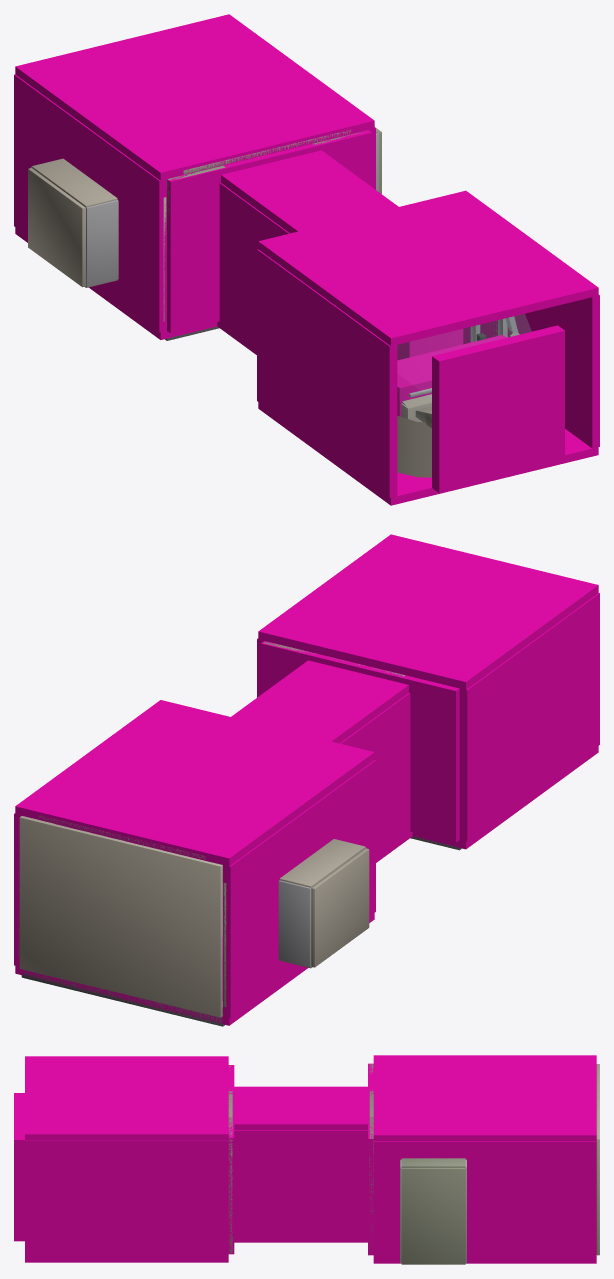
The model's file is ship-interior.glb.
The picture shows the model from 3 angles, top to bottom: view 1: azimuth 30°, elevation 25°; view 2: azimuth 150°, elevation 25°; view 3: azimuth 270°, elevation 25°; orthographic projection. The views are drawn at different scales.
Visible parts, largest first — view 1: COL_Ceil_Bay, COL_Ceil_Ck, COL_Wall_Ck_L, COL_Nose, COL_Wall_Bay_L, COL_Ceil_Cr, COL_Bulk_Bay_L, COL_Wall_Ck_R, COL_Wall_Cr_L, SM_Bunk_Niche_Back, SM_Canopy_Glass, COL_Floor_Ck (+9 smaller); view 2: COL_Ceil_Bay, SM_Bay_WallRear, COL_Ceil_Ck, COL_Wall_Ck_L, COL_Wall_Bay_L, COL_Ceil_Cr, COL_Bulk_Ck_L, COL_Wall_Cr_L, SM_Bunk_Niche_Back, SM_Bunk_Niche_JambA, COL_Floor_Bay, SM_Bunk_Niche_Top (+5 smaller); view 3: COL_Wall_Ck_R, COL_Wall_Bay_R, COL_Ceil_Bay, COL_Ceil_Ck, COL_Wall_Cr_R, SM_Locker_Niche_Back, COL_Ceil_Cr, COL_Nose, COL_Floor_Ck, COL_Floor_Bay, COL_Bulk_Ck_R, COL_Floor_Cr (+4 smaller).
Boxes of the visible parts, x1=… form: COL_Ceil_Bay: x1=15, y1=14, x2=374, y2=180; COL_Ceil_Ck: x1=258, y1=190, x2=598, y2=346; COL_Wall_Ck_L: x1=257, y1=249, x2=397, y2=497; COL_Nose: x1=432, y1=325, x2=564, y2=492; COL_Wall_Bay_L: x1=14, y1=74, x2=166, y2=332; COL_Ceil_Cr: x1=221, y1=150, x2=398, y2=233; COL_Bulk_Bay_L: x1=167, y1=165, x2=227, y2=333; COL_Wall_Ck_R: x1=463, y1=294, x2=599, y2=448; COL_Wall_Cr_L: x1=219, y1=183, x2=289, y2=348; SM_Bunk_Niche_Back: x1=28, y1=168, x2=85, y2=287; SM_Canopy_Glass: x1=398, y1=314, x2=531, y2=421; COL_Floor_Ck: x1=258, y1=402, x2=598, y2=505; COL_Ceil_Bay: x1=15, y1=700, x2=374, y2=866; SM_Bay_WallRear: x1=19, y1=816, x2=222, y2=1017; COL_Ceil_Ck: x1=258, y1=534, x2=598, y2=689; COL_Wall_Ck_L: x1=459, y1=593, x2=599, y2=841; COL_Wall_Bay_L: x1=223, y1=760, x2=375, y2=1018; COL_Ceil_Cr: x1=231, y1=660, x2=408, y2=743; COL_Bulk_Ck_L: x1=402, y1=675, x2=459, y2=842; COL_Wall_Cr_L: x1=340, y1=693, x2=410, y2=856; SM_Bunk_Niche_Back: x1=311, y1=848, x2=369, y2=967; SM_Bunk_Niche_JambA: x1=278, y1=880, x2=311, y2=967; COL_Floor_Bay: x1=15, y1=913, x2=374, y2=1025; SM_Bunk_Niche_Top: x1=279, y1=839, x2=365, y2=887; COL_Wall_Ck_R: x1=25, y1=1140, x2=228, y2=1256; COL_Wall_Bay_R: x1=373, y1=1141, x2=596, y2=1258; COL_Ceil_Bay: x1=373, y1=1055, x2=596, y2=1141; COL_Ceil_Ck: x1=25, y1=1056, x2=228, y2=1140; COL_Wall_Cr_R: x1=234, y1=1130, x2=367, y2=1236; SM_Locker_Niche_Back: x1=401, y1=1167, x2=465, y2=1264; COL_Ceil_Cr: x1=234, y1=1086, x2=367, y2=1130; COL_Nose: x1=14, y1=1093, x2=24, y2=1241; COL_Floor_Ck: x1=25, y1=1257, x2=228, y2=1262; COL_Floor_Bay: x1=373, y1=1258, x2=596, y2=1263; COL_Bulk_Ck_R: x1=228, y1=1118, x2=234, y2=1254; COL_Floor_Cr: x1=234, y1=1237, x2=367, y2=1242.
Bounding box in the file's own units: 4.39 × 2.58 × 10.51.
